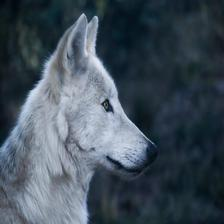WOLF: (0, 11, 160, 224)
